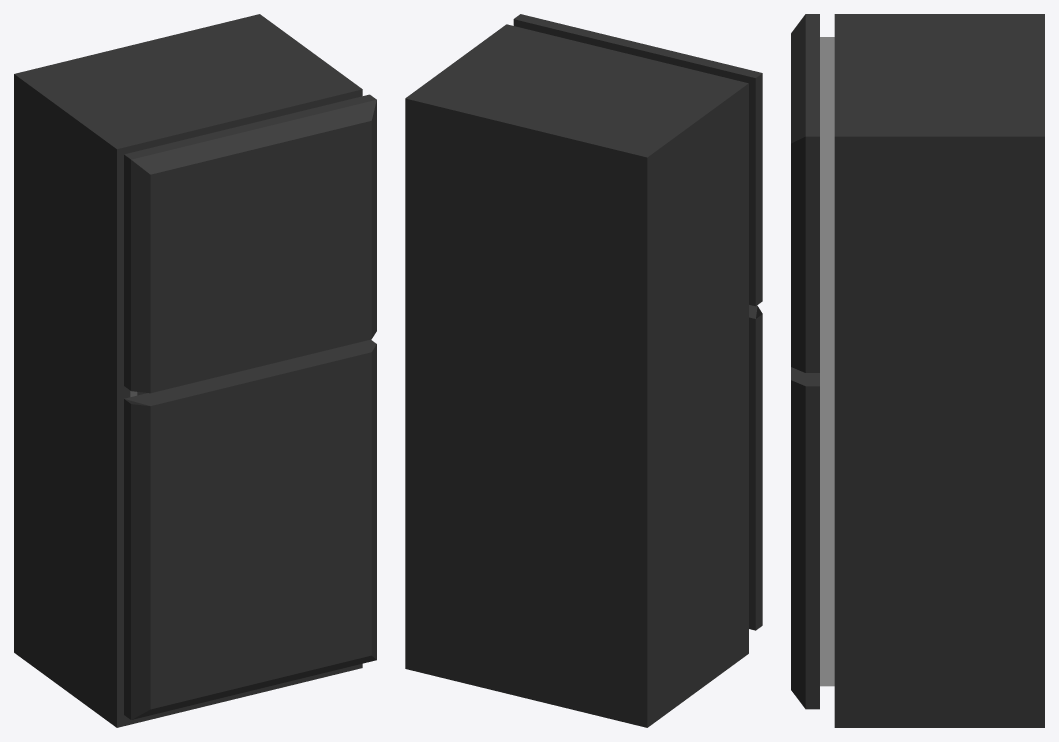
The model's file is fridge.glb.
The picture shows the model from 3 angles, left to right: view 1: azimuth 30°, elevation 25°; view 2: azimuth 150°, elevation 25°; view 3: azimuth 270°, elevation 25°; orthographic projection. The views are drawn at different scales.
Visible parts, largest first — view 1: Kitchennette_0; view 2: Kitchennette_0; view 3: Kitchennette_0.
Boxes of the visible parts, left/top/right/bottom form: Kitchennette_0: left=14, top=14, right=376, bottom=727; Kitchennette_0: left=405, top=14, right=762, bottom=727; Kitchennette_0: left=791, top=14, right=1044, bottom=727.
Bounding box in the file's own units: 0.8 × 1.8 × 0.7.
Materials: 2 (2 with a texture image).
